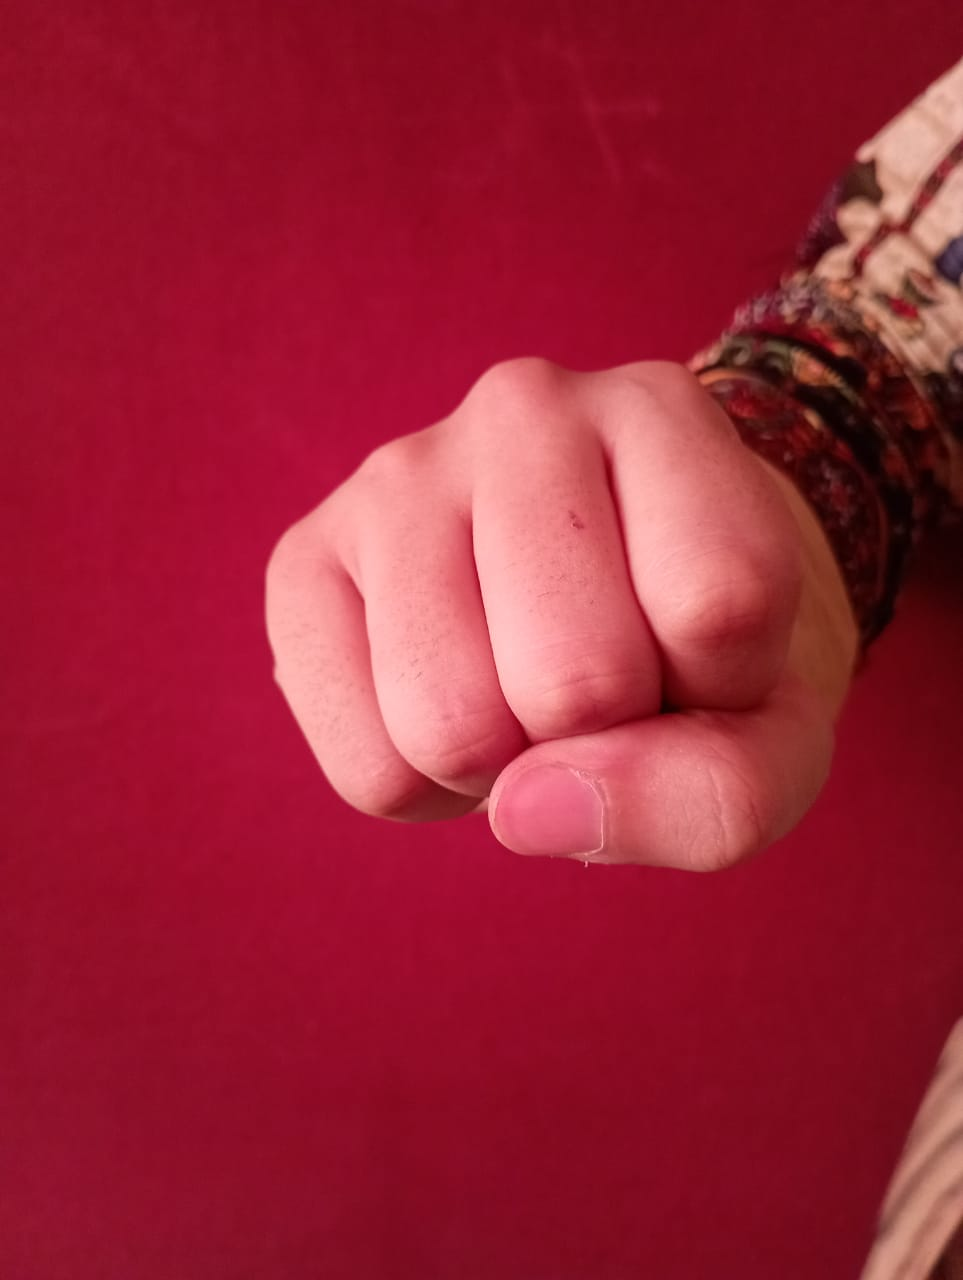BroCode: (227, 347, 856, 900)
